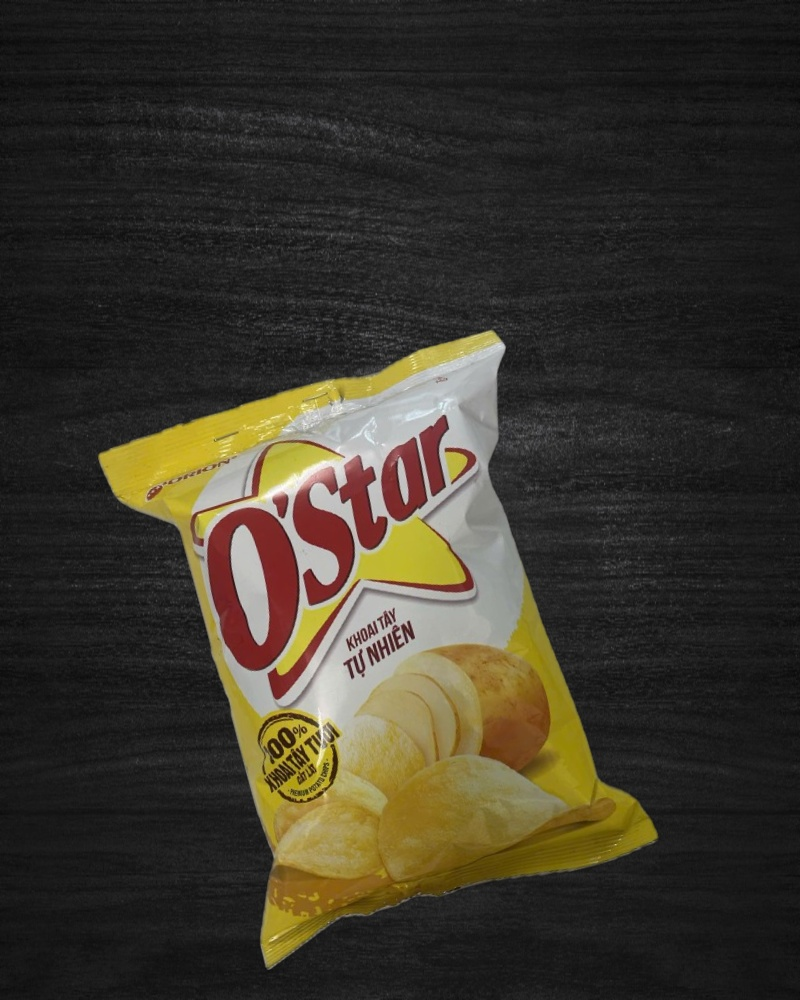O'star: (94, 322, 666, 978)
